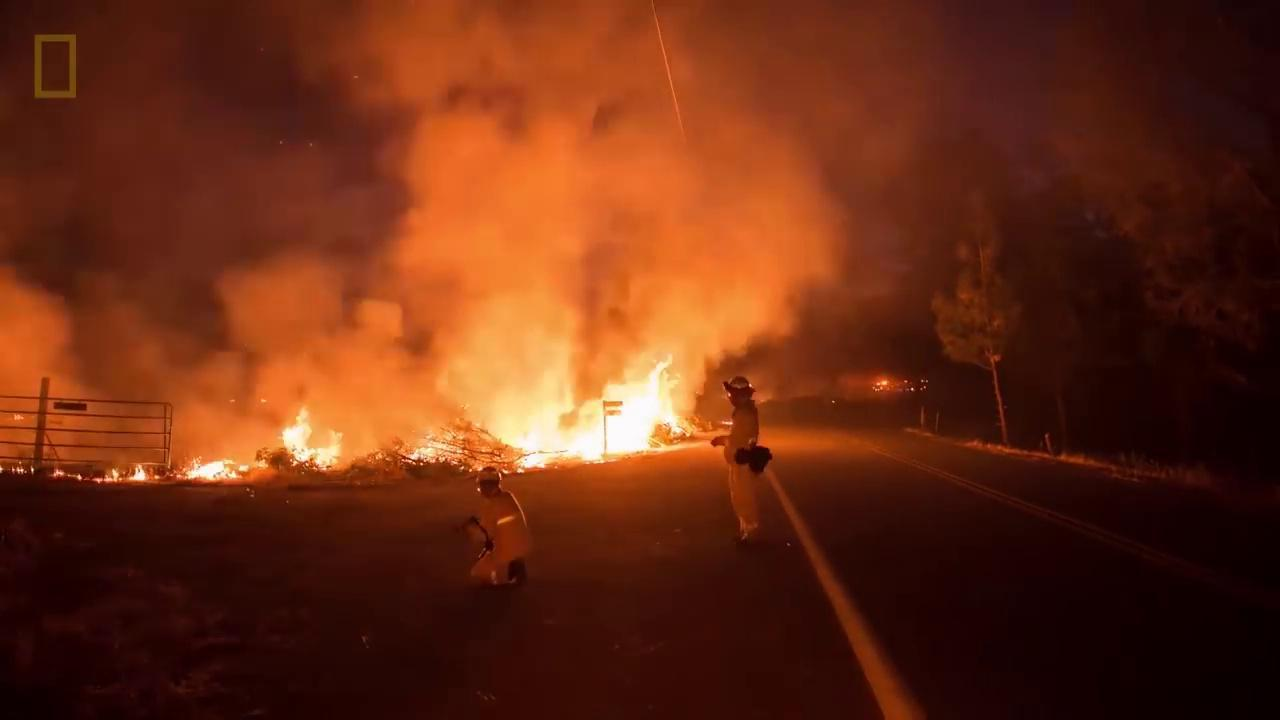Fire: (515, 360, 686, 475), (288, 406, 359, 471), (181, 458, 244, 486), (53, 466, 150, 484)
